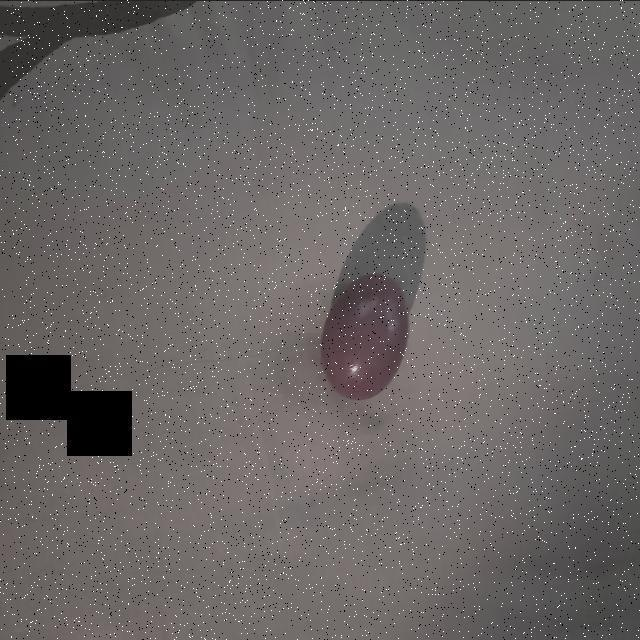egg: (317, 264, 411, 404)
